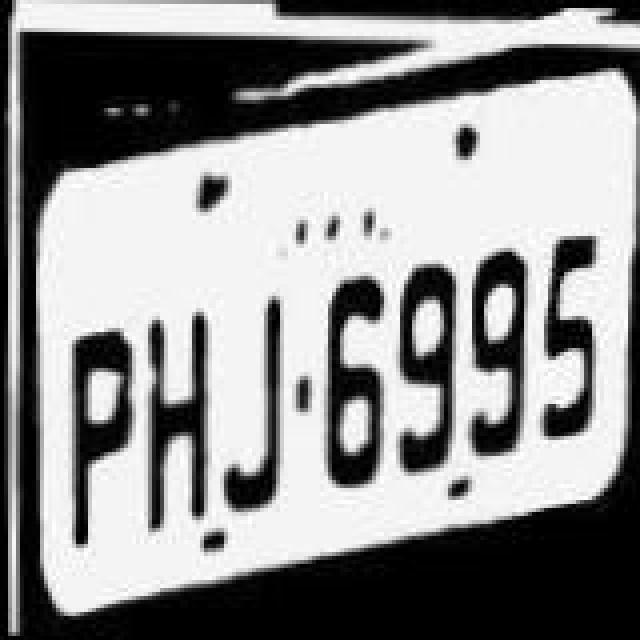5: (530, 220, 606, 436)
6: (318, 274, 394, 482)
9: (452, 244, 532, 460), (386, 256, 462, 472)
H: (130, 314, 210, 530)
J: (214, 298, 294, 510)
P: (58, 330, 142, 542)
